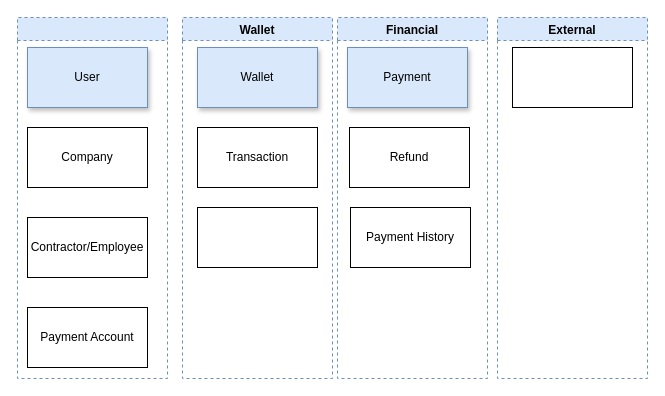
Some shapes in this 665 by 396 pixel diagram are drawn without their labels. Each missing label, with the centre of its shape:
3rd-part Payment provider: point (572, 77)
Account: point (92, 197)
B alance: point (257, 237)
